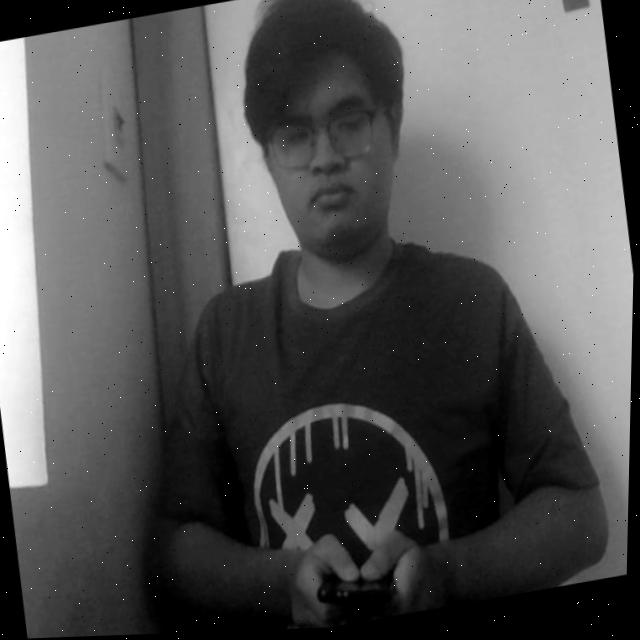phone: (310, 532, 420, 631)
